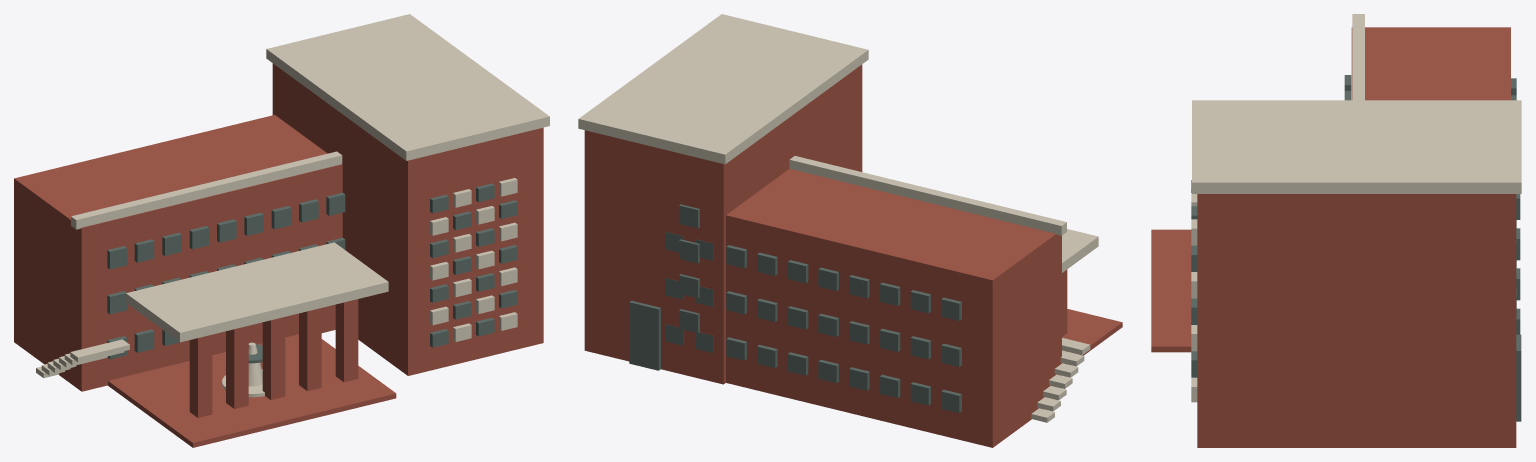
File: national-library-stamford.glb
The picture shows the model from 3 angles, left to right: view 1: azimuth 30°, elevation 25°; view 2: azimuth 150°, elevation 25°; view 3: azimuth 270°, elevation 25°; orthographic projection. The views are drawn at different scales.
Parts seen in each view (by area): view 1: main-brick-wing/main-wing, cross-wing/cross-wing, roof-parapets/form (×2), entrance-porch/canopy, courtyard-void/courtyard-floor, brick-porch-piers/porch-pier-1, brick-porch-piers/porch-pier-5, brick-porch-piers/porch-pier-3, brick-porch-piers/porch-pier-4, brick-porch-piers/porch-pier-2, external-stair/stair-6; view 2: main-brick-wing/main-wing, cross-wing/cross-wing, roof-parapets/form (×2), rear-reading-room-windows/rear-fire-exit, courtyard-void/courtyard-floor, entrance-porch/canopy; view 3: cross-wing/cross-wing, roof-parapets/form (×2), main-brick-wing/main-wing, courtyard-void/courtyard-floor, rear-reading-room-windows/rear-fire-exit.
Boxes of the visible parts, left/top/right/bottom form: main-brick-wing/main-wing: left=14, top=115, right=342, bottom=391; cross-wing/cross-wing: left=272, top=63, right=543, bottom=375; roof-parapets/form (×2): left=71, top=14, right=549, bottom=229; entrance-porch/canopy: left=126, top=242, right=388, bottom=342; courtyard-void/courtyard-floor: left=108, top=334, right=396, bottom=447; brick-porch-piers/porch-pier-1: left=189, top=334, right=212, bottom=417; brick-porch-piers/porch-pier-5: left=335, top=299, right=358, bottom=382; brick-porch-piers/porch-pier-3: left=262, top=317, right=285, bottom=399; brick-porch-piers/porch-pier-4: left=299, top=308, right=321, bottom=391; brick-porch-piers/porch-pier-2: left=226, top=326, right=248, bottom=408; external-stair/stair-6: left=70, top=339, right=129, bottom=362; main-brick-wing/main-wing: left=726, top=169, right=1061, bottom=447; cross-wing/cross-wing: left=584, top=64, right=862, bottom=384; roof-parapets/form (×2): left=578, top=14, right=1066, bottom=235; rear-reading-room-windows/rear-fire-exit: left=629, top=300, right=660, bottom=370; courtyard-void/courtyard-floor: left=1062, top=309, right=1122, bottom=364; entrance-porch/canopy: left=1062, top=229, right=1098, bottom=272; cross-wing/cross-wing: left=1197, top=194, right=1516, bottom=447; roof-parapets/form (×2): left=1192, top=14, right=1521, bottom=193; main-brick-wing/main-wing: left=1351, top=27, right=1510, bottom=100; courtyard-void/courtyard-floor: left=1151, top=229, right=1191, bottom=352; rear-reading-room-windows/rear-fire-exit: left=1516, top=334, right=1521, bottom=421.
Bounding box in the file's own units: 15.95 × 8.34 × 10.45.
